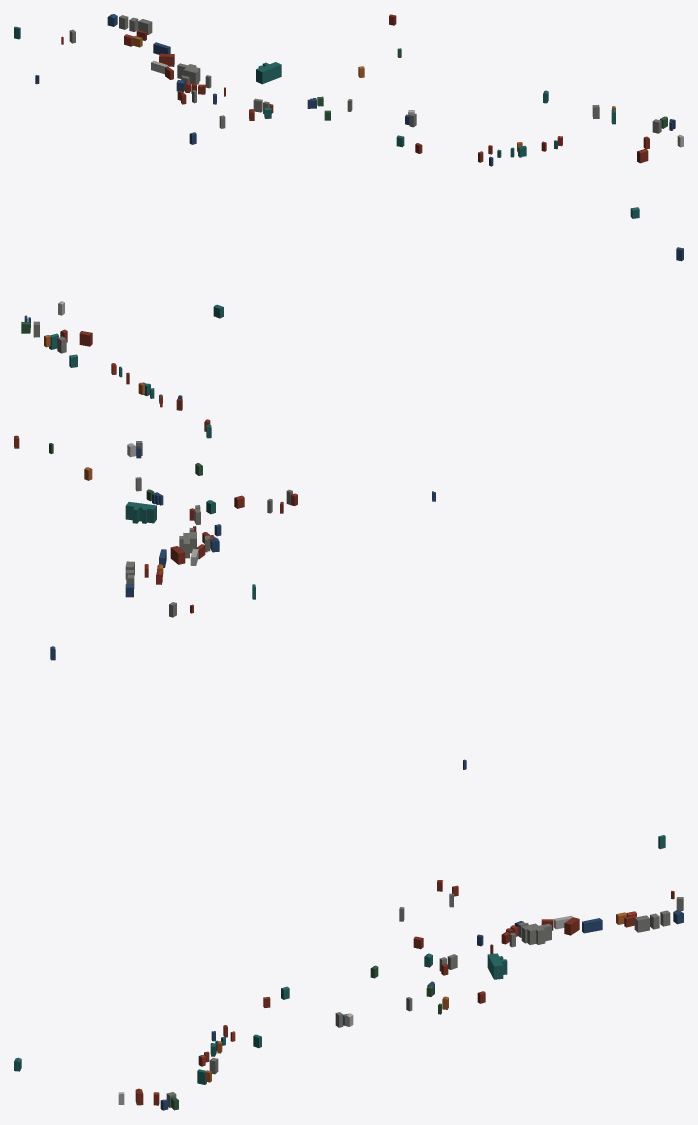
The model's file is near-15-27365-14872.14fb9d58.glb.
The picture shows the model from 3 angles, top to bottom: view 1: azimuth 30°, elevation 25°; view 2: azimuth 150°, elevation 25°; view 3: azimuth 270°, elevation 25°; orthographic projection. The views are drawn at different scales.
Bounding box in the file's own units: 1158 × 365 × 1143.
